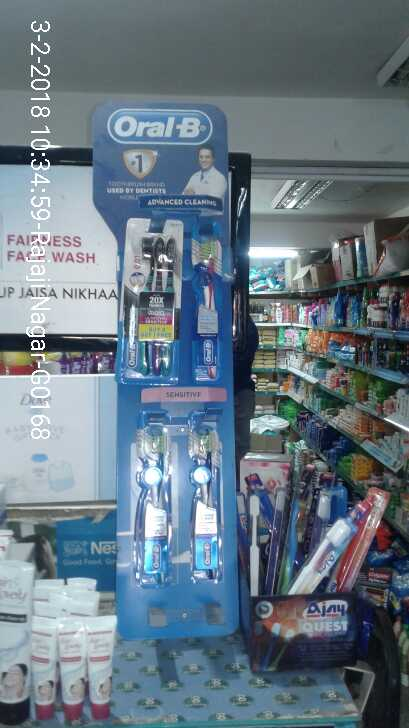oralb: (128, 411, 173, 593), (181, 422, 226, 587), (124, 222, 173, 372), (177, 225, 220, 383)
